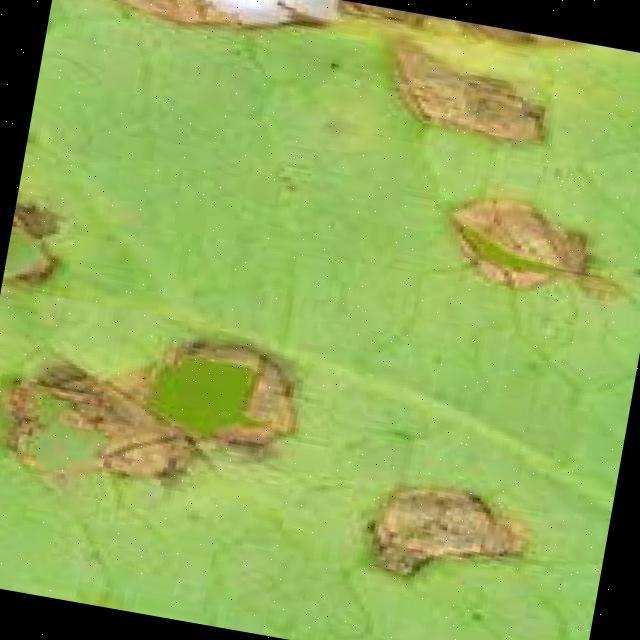Septoria_Blight_on_lettuce: (0, 280, 571, 639)
